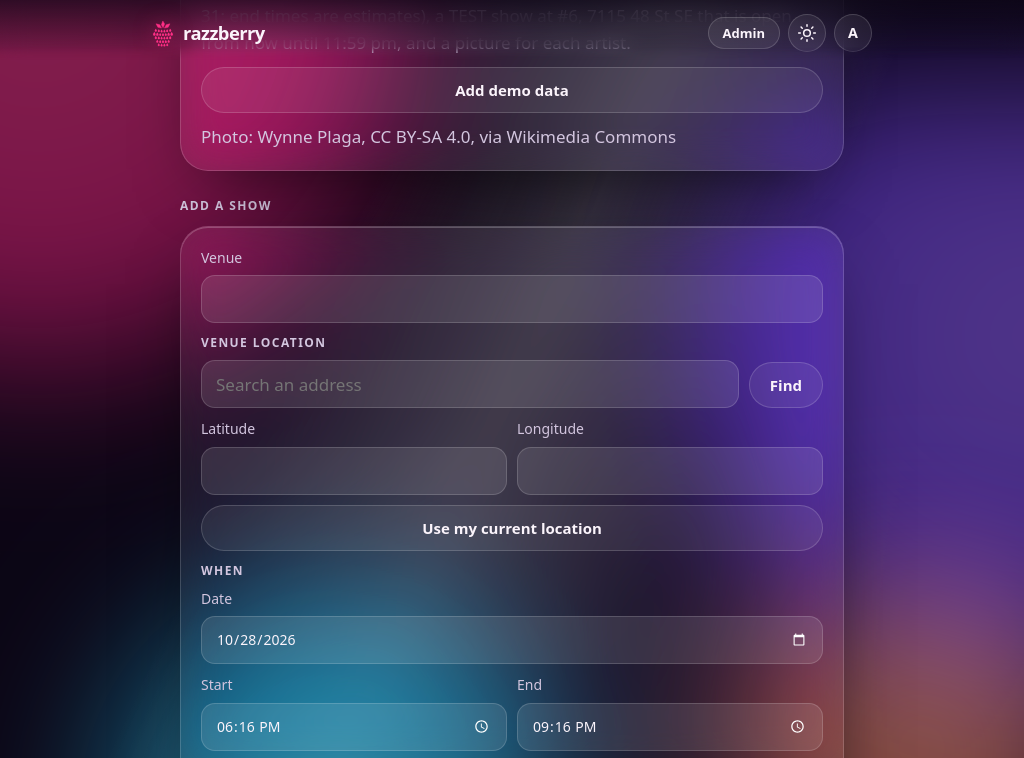
Scenario: admin page › finds an address with the free search and fills in the numbers
(page scrolled)
Type "foundry calgary" into the field labelled "Search an address" at (470, 384), box [201,360,739,408]
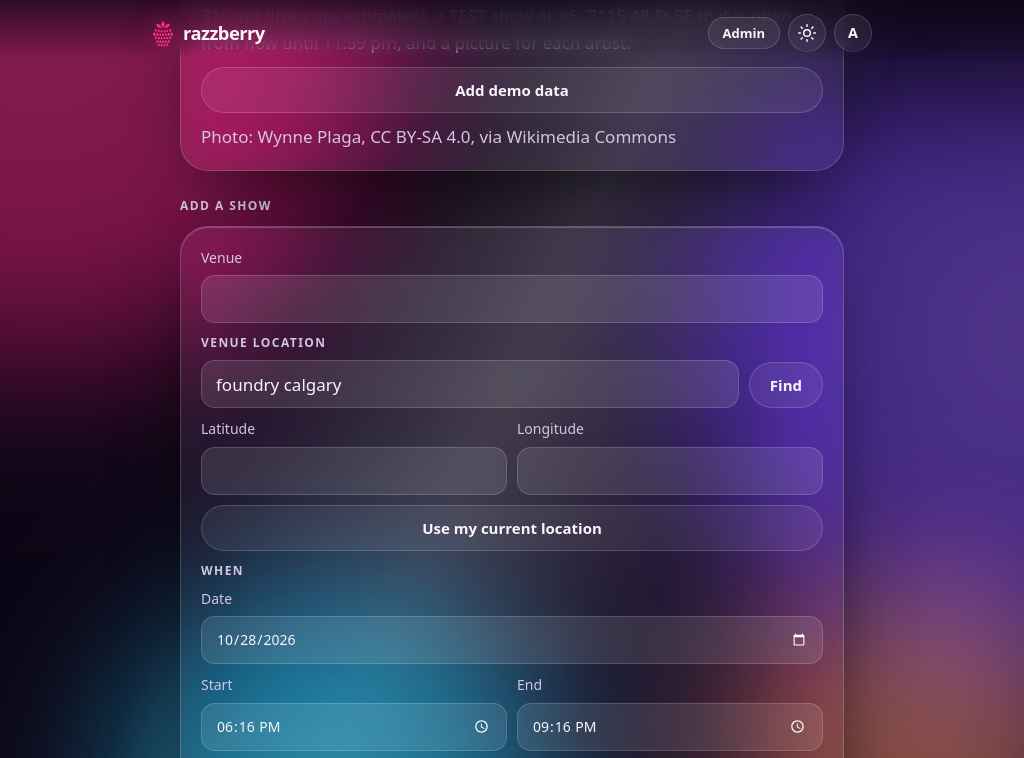
Click the button "Find" at (786, 386), box [749,362,823,408]
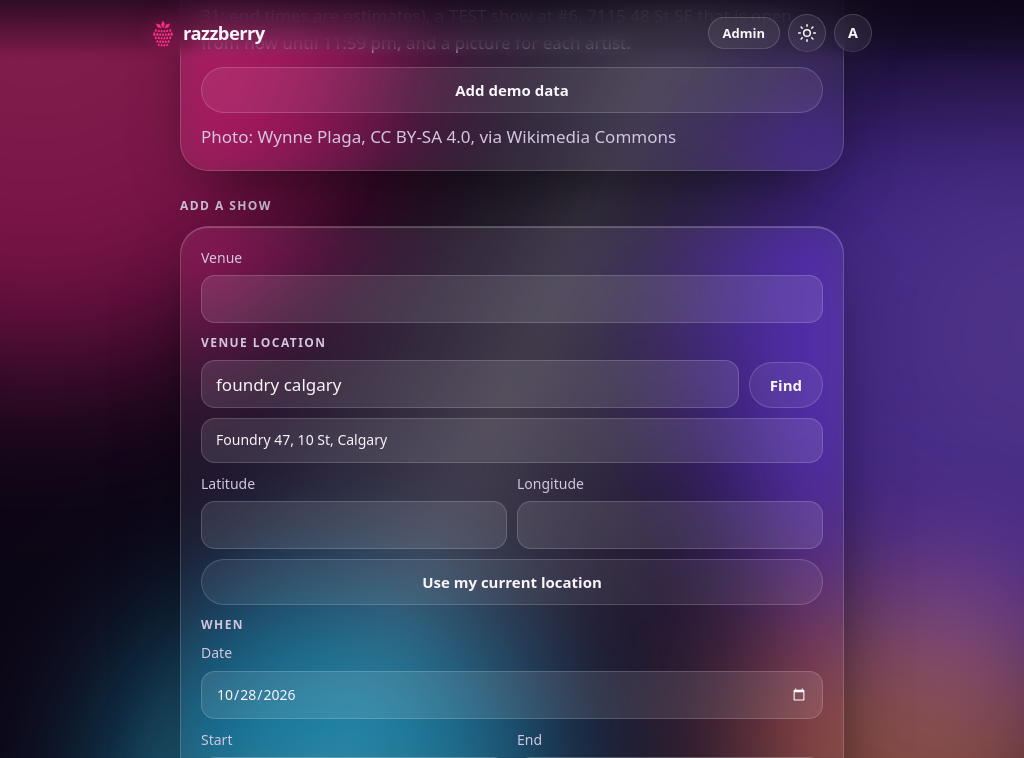
Click the button "Foundry 47, 10 St, Calgary" at (302, 440), box [201,418,823,463]
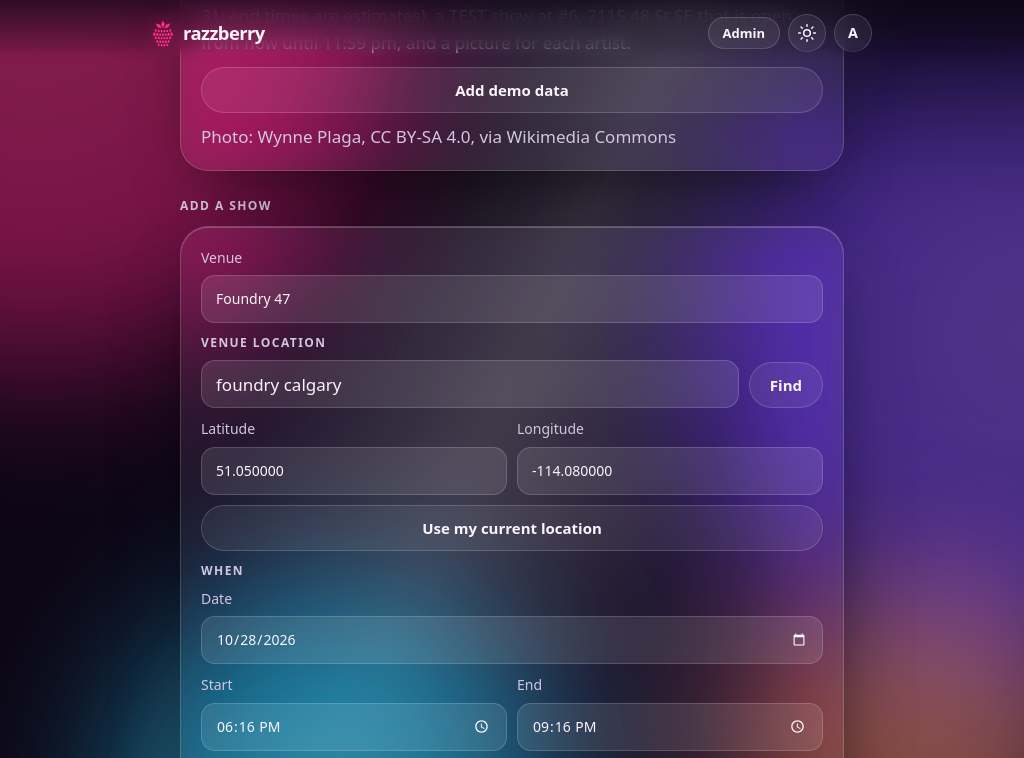
Check: the field labelled "Latitude" holds "51.050000", box [201,447,507,495]
Check: the field labelled "Venue" holds "Foundry 47", box [201,275,823,323]
